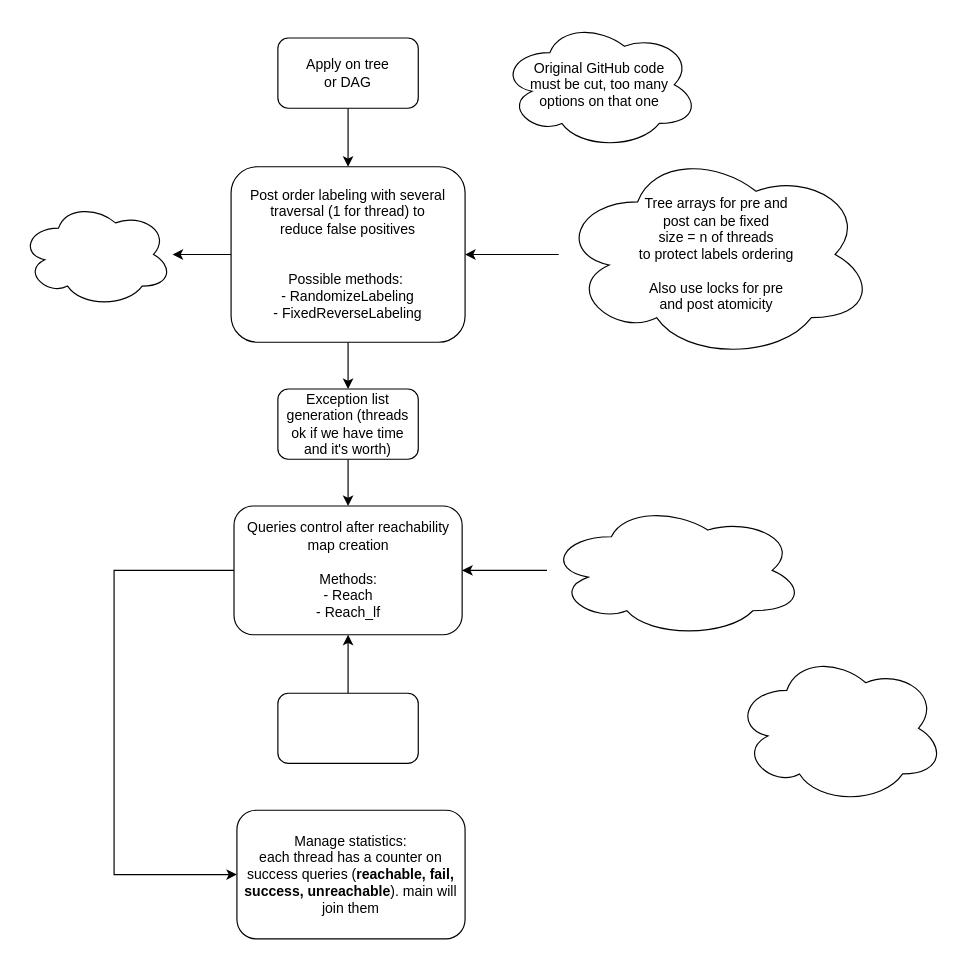
Some shapes in this 965 by 959 pixel diagram are drawn without their labels. Each missing label, with the centre of its shape:
False positives are GRAIL weak point: (96,254)
Here we could insert threads (1 foreach query or 1 each x queries): (675,570)
Thread creation: Better one by one or pool?: (839,727)
Use exceptions list and LEVEL_FILTER to eliminate other false positive: (347,727)
